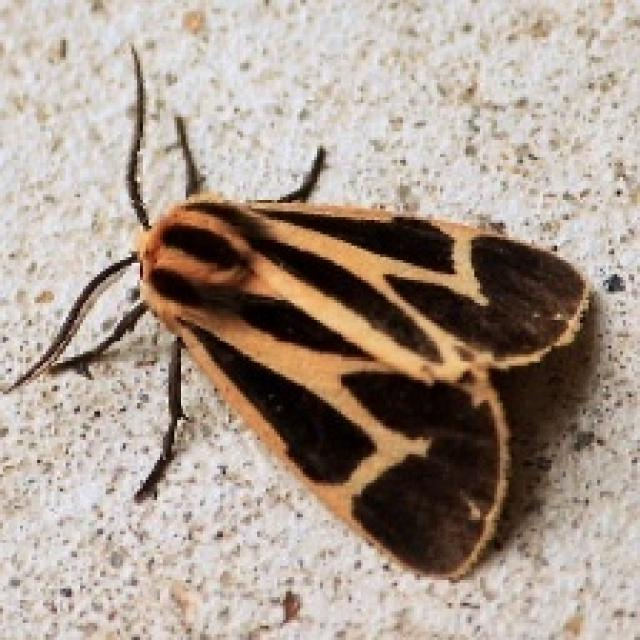butterfly: (0, 40, 591, 580)
